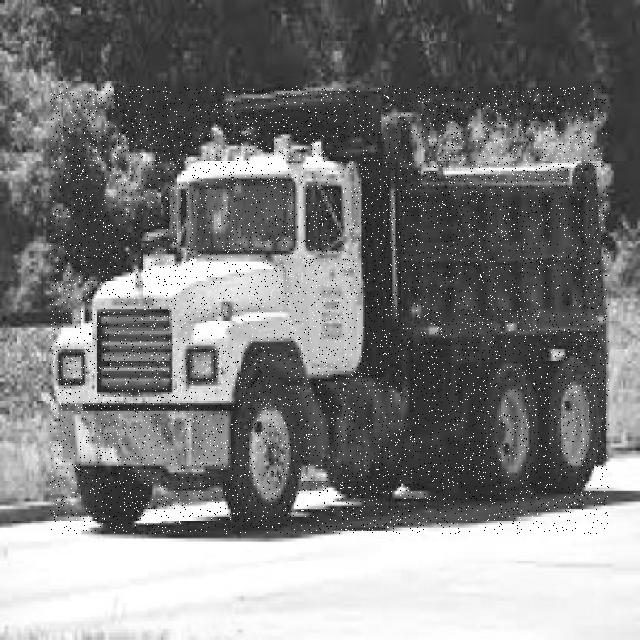Box Truck: (50, 86, 609, 534)
